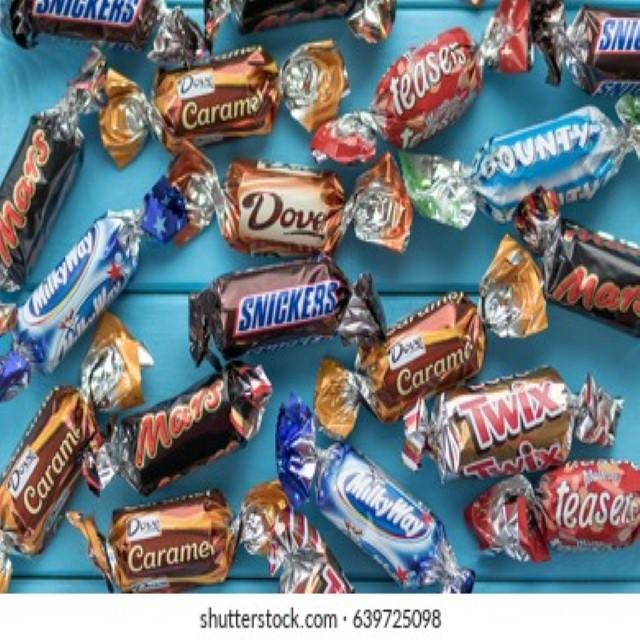mars_chocolate: (121, 365, 266, 470), (3, 103, 65, 287), (553, 211, 640, 314)
snickers_chocolate: (180, 234, 385, 338), (0, 0, 168, 56), (550, 8, 640, 84)
